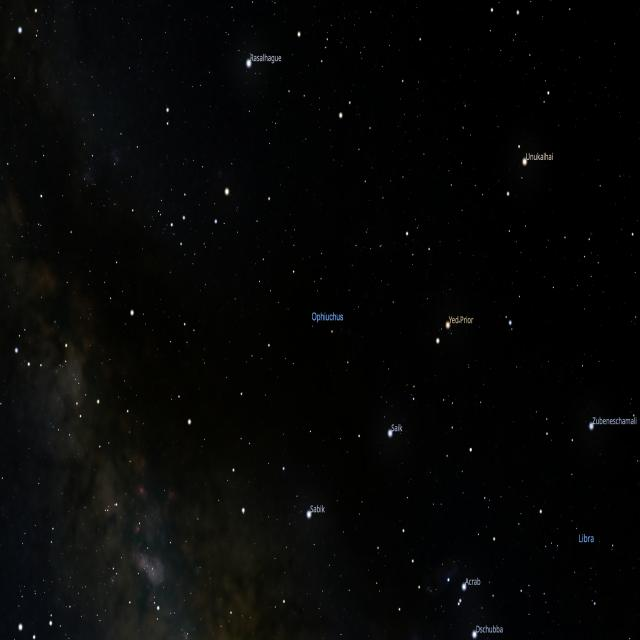Ophiuchus: (223, 52, 443, 640)
